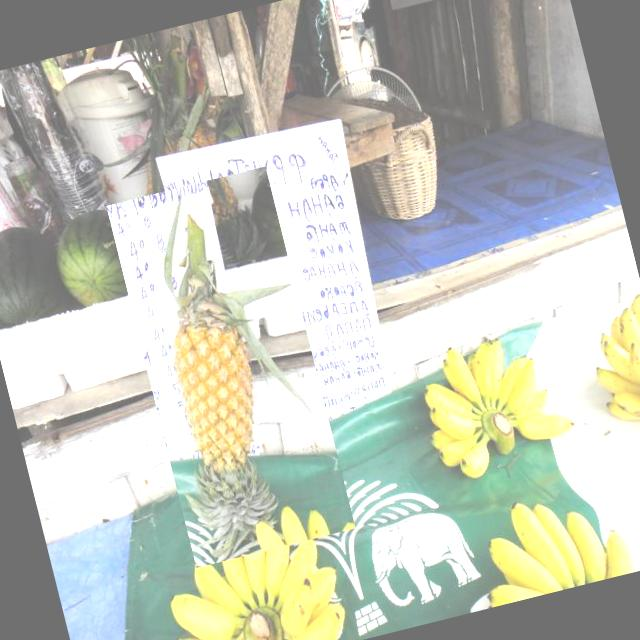Banana: (146, 494, 354, 640), (408, 322, 580, 487), (466, 477, 636, 608), (579, 292, 640, 438)
